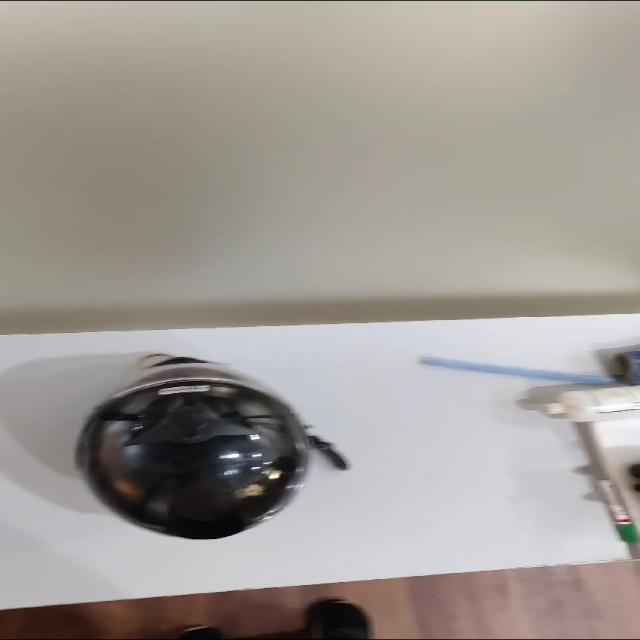helmet: (76, 354, 347, 539)
